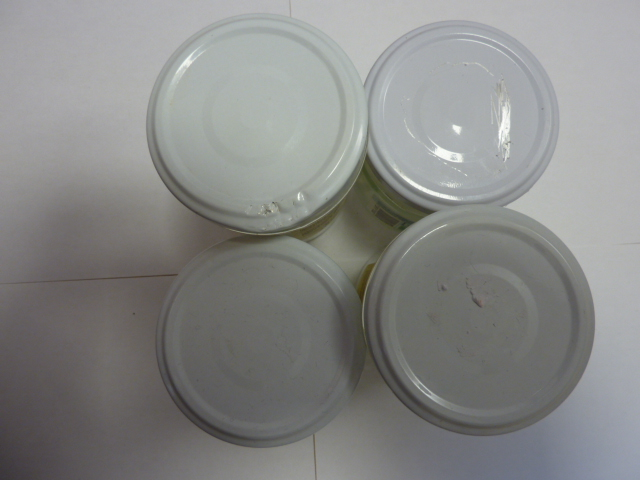damaged: (143, 13, 368, 231), (362, 16, 561, 209)
intact: (153, 238, 366, 440)
